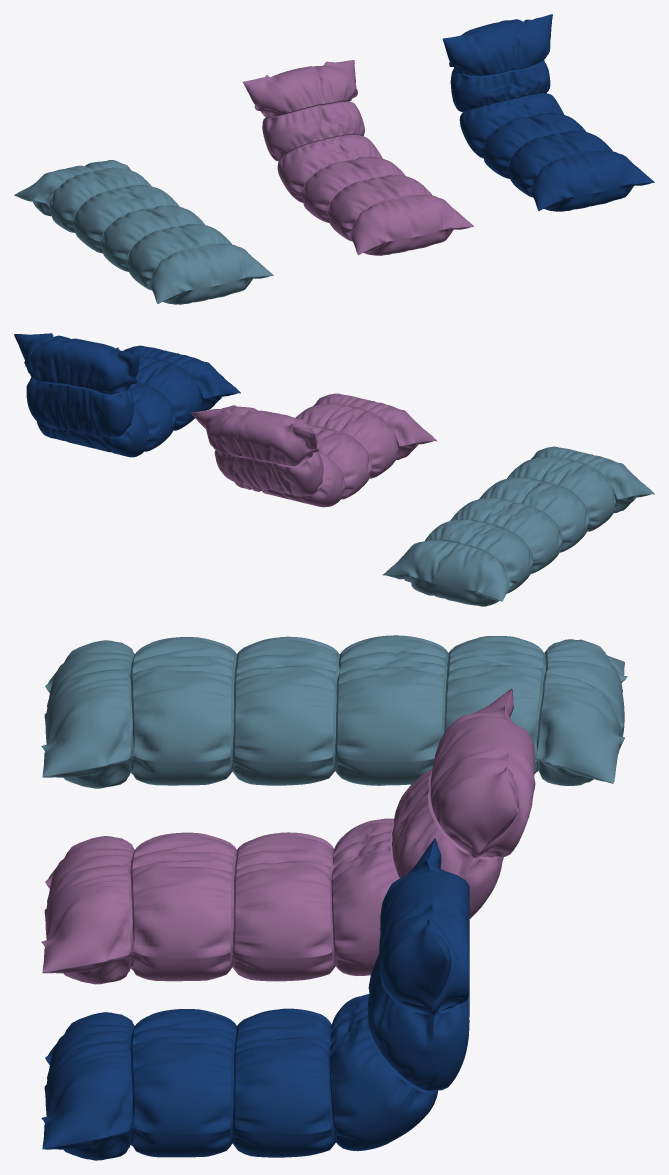
File: Large Sleeping Pillow.fbx
The picture shows the model from 3 angles, top to bottom: view 1: azimuth 30°, elevation 25°; view 2: azimuth 150°, elevation 25°; view 3: azimuth 270°, elevation 25°; orthographic projection. The views are drawn at different scales.
Parts seen in each view (by area): view 1: large sleeping pillow 02, large sleeping pillow, large sleeping pillow 01; view 2: large sleeping pillow 01, large sleeping pillow, large sleeping pillow 02; view 3: large sleeping pillow 01, large sleeping pillow, large sleeping pillow 02.
Part boxes in pixels (box(x1,y1,x2,y2)): large sleeping pillow 02: box(243, 60, 474, 255); large sleeping pillow: box(442, 14, 654, 211); large sleeping pillow 01: box(14, 160, 273, 304); large sleeping pillow 01: box(383, 446, 654, 606); large sleeping pillow: box(14, 333, 240, 457); large sleeping pillow 02: box(190, 393, 436, 507); large sleeping pillow 01: box(41, 635, 627, 788); large sleeping pillow: box(41, 838, 469, 1160); large sleeping pillow 02: box(41, 688, 535, 984).
Bounding box in the file's own units: 159 × 35.22 × 81.38.
